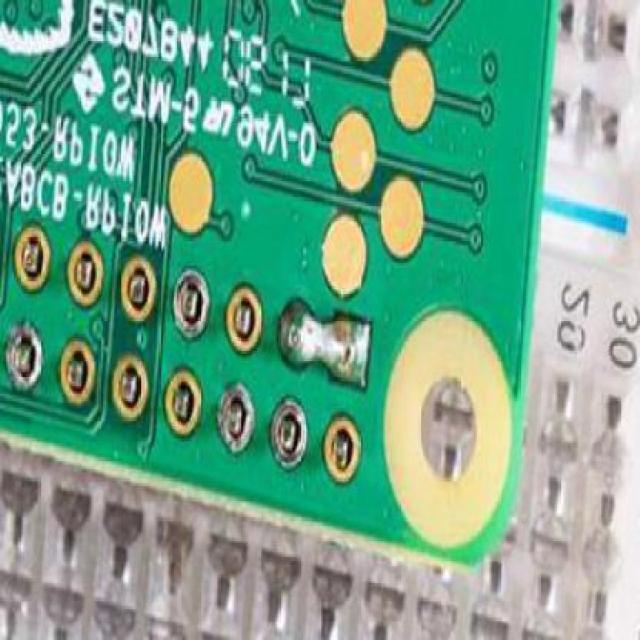Soldering bridge: (274, 303, 372, 394)
